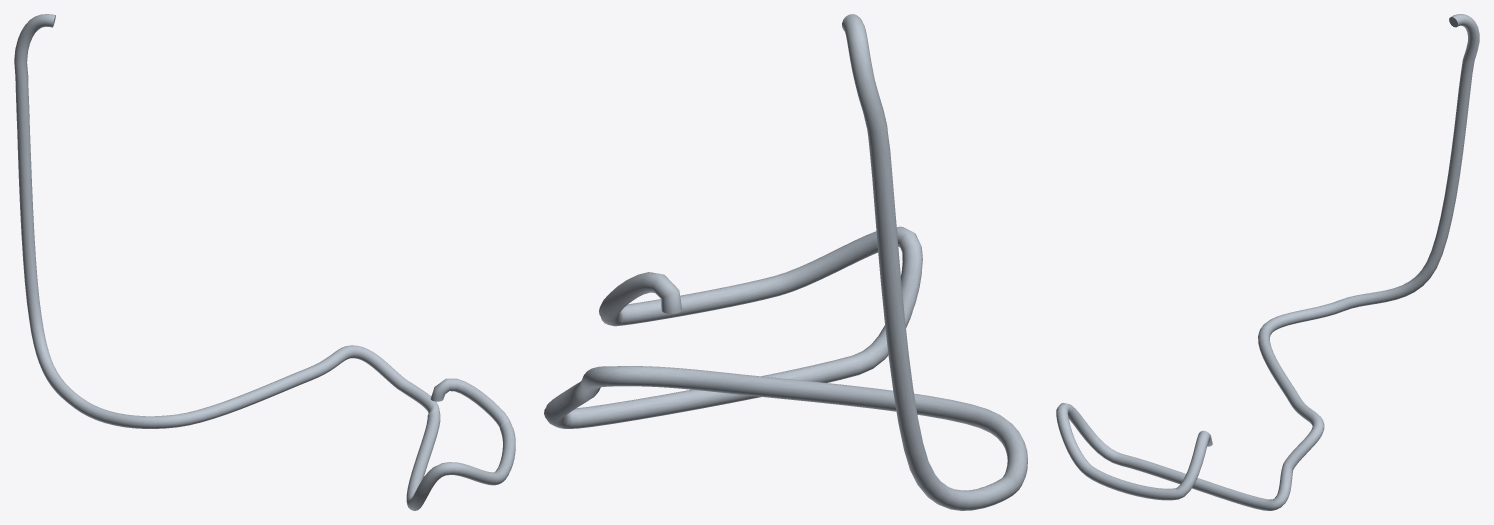
File: SM_Cable_2_Splines_23.fbx
The picture shows the model from 3 angles, left to right: view 1: azimuth 30°, elevation 25°; view 2: azimuth 150°, elevation 25°; view 3: azimuth 270°, elevation 25°; orthographic projection. The views are drawn at different scales.
Visible parts, largest first — view 1: SM_Cable_2_Splines_23; view 2: SM_Cable_2_Splines_23; view 3: SM_Cable_2_Splines_23.
Part boxes in pixels (x1=…): SM_Cable_2_Splines_23: x1=14, y1=14, x2=515, y2=510; SM_Cable_2_Splines_23: x1=544, y1=14, x2=1027, y2=510; SM_Cable_2_Splines_23: x1=1056, y1=14, x2=1479, y2=510.
Bounding box in the file's own units: 282 × 320 × 309.
